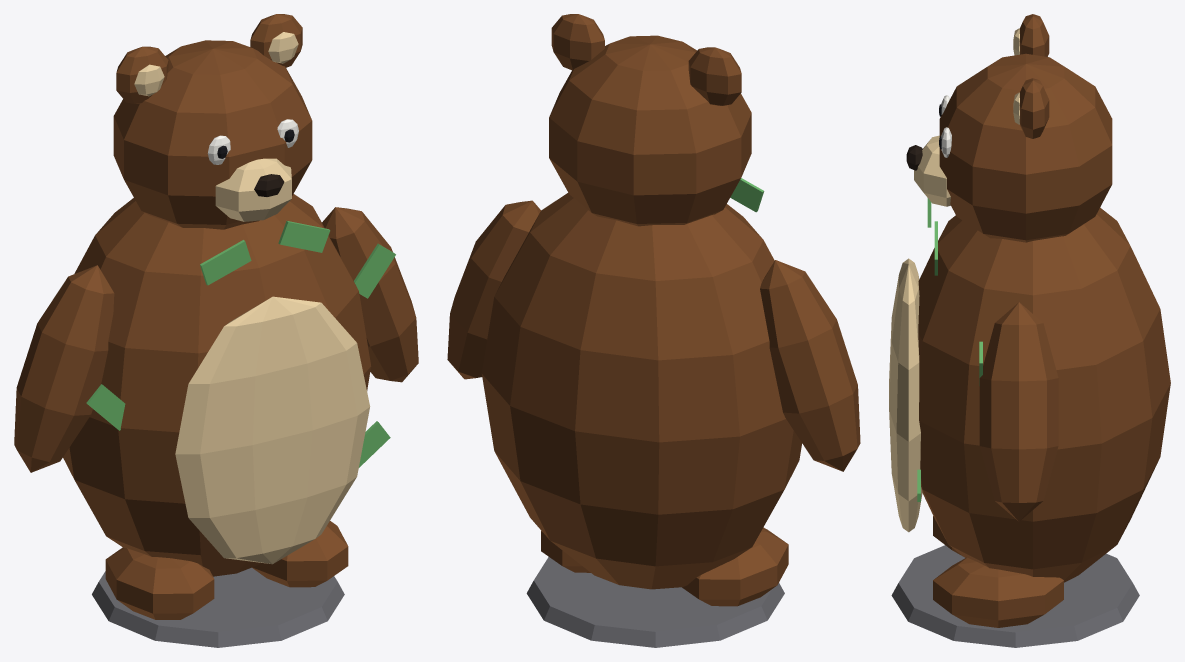
The model's file is bear_loot.glb.
The picture shows the model from 3 angles, left to right: view 1: azimuth 30°, elevation 25°; view 2: azimuth 150°, elevation 25°; view 3: azimuth 270°, elevation 25°; orthographic projection. The views are drawn at different scales.
Parts seen in each view (by area): view 1: body_bear_fur, belly_bear_cream, head_bear_fur, arms_bear_fur, stand_mannequin_stand, legs_bear_fur, bills_bear_bill, head_bear_cream, ears_bear_fur, ears_bear_cream, face_white; view 2: body_bear_fur, head_bear_fur, arms_bear_fur, stand_mannequin_stand, legs_bear_fur, ears_bear_fur, bills_bear_bill; view 3: body_bear_fur, head_bear_fur, arms_bear_fur, stand_mannequin_stand, belly_bear_cream, legs_bear_fur, ears_bear_fur, head_bear_cream, bills_bear_bill.
Part boxes in pixels (x1,y1,x2,y2): body_bear_fur: [63, 194, 371, 576]; belly_bear_cream: [175, 296, 370, 564]; head_bear_fur: [113, 40, 312, 229]; arms_bear_fur: [14, 207, 418, 472]; stand_mannequin_stand: [92, 567, 344, 647]; legs_bear_fur: [105, 521, 348, 619]; bills_bear_bill: [86, 221, 395, 467]; head_bear_cream: [215, 158, 291, 221]; ears_bear_fur: [116, 14, 302, 103]; ears_bear_cream: [134, 32, 298, 96]; face_white: [207, 119, 298, 164]; body_bear_fur: [481, 193, 802, 589]; head_bear_fur: [549, 35, 751, 226]; arms_bear_fur: [447, 200, 860, 471]; stand_mannequin_stand: [526, 557, 784, 647]; legs_bear_fur: [541, 527, 788, 606]; ears_bear_fur: [551, 14, 741, 105]; bills_bear_bill: [730, 178, 764, 212]; body_bear_fur: [918, 207, 1170, 582]; head_bear_fur: [939, 53, 1112, 242]; arms_bear_fur: [979, 302, 1058, 521]; stand_mannequin_stand: [891, 545, 1139, 647]; belly_bear_cream: [889, 258, 922, 532]; legs_bear_fur: [933, 516, 1063, 627]; ears_bear_fur: [1019, 14, 1049, 138]; head_bear_cream: [914, 135, 950, 206]; bills_bear_bill: [917, 198, 982, 501].
Size of the model in its own units: 1.31 by 1.75 by 0.8171.
